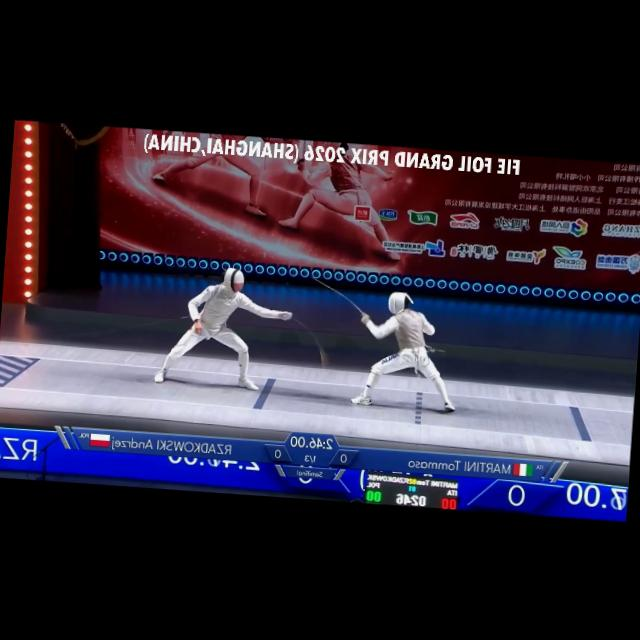blade: (306, 274, 371, 324), (278, 312, 332, 371)
